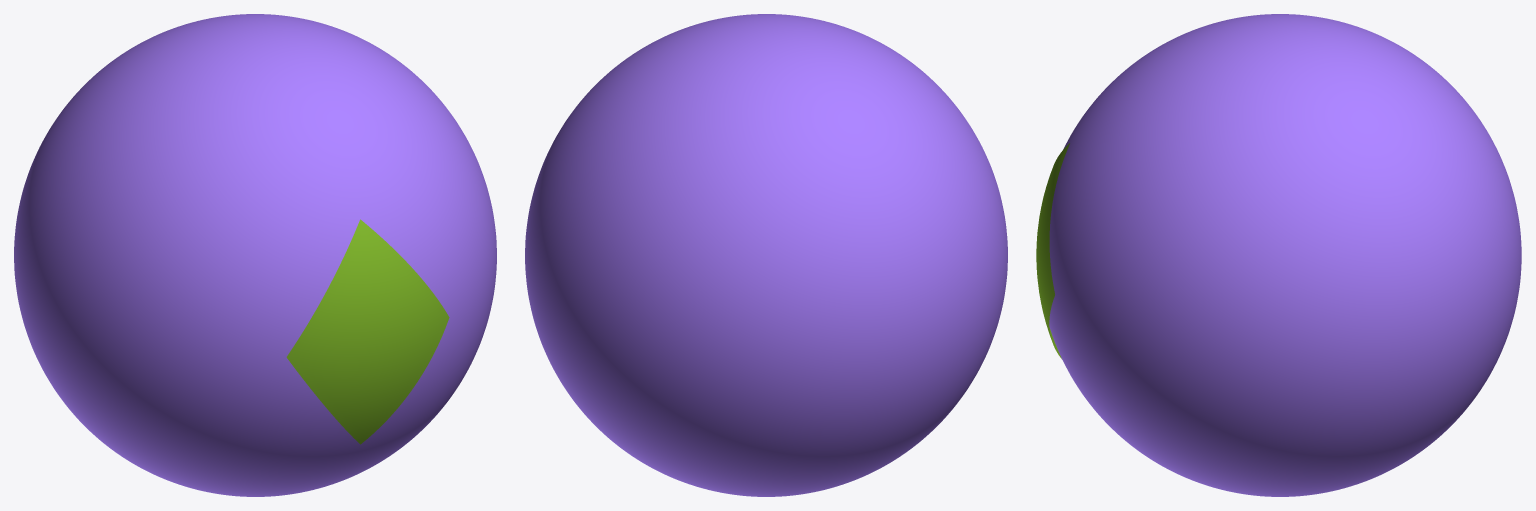
The model's file is ixpoverse_Icon.glb.
3 views of the same model, side by side, from view 1: azimuth 30°, elevation 25°; view 2: azimuth 150°, elevation 25°; view 3: azimuth 270°, elevation 25° (orthographic).
Parts seen in each view (by area): view 1: Sphere; view 2: Sphere; view 3: Sphere.
Boxes of the visible parts, bbox=[...] form: Sphere: bbox=[14, 14, 496, 496]; Sphere: bbox=[525, 14, 1007, 496]; Sphere: bbox=[1036, 14, 1521, 496].
Bounding box in the file's own units: 0.2 × 0.2 × 0.201.
2 materials, 2 textured.
